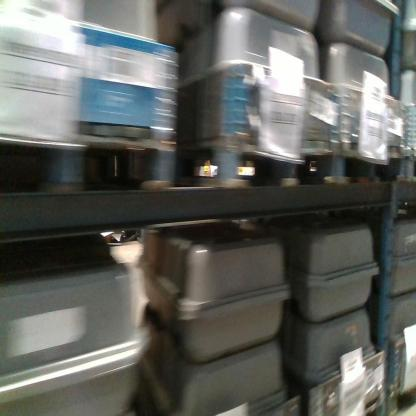pallet: (0, 133, 176, 195), (177, 135, 339, 185), (339, 144, 407, 183), (391, 386, 416, 416), (406, 148, 416, 181)
